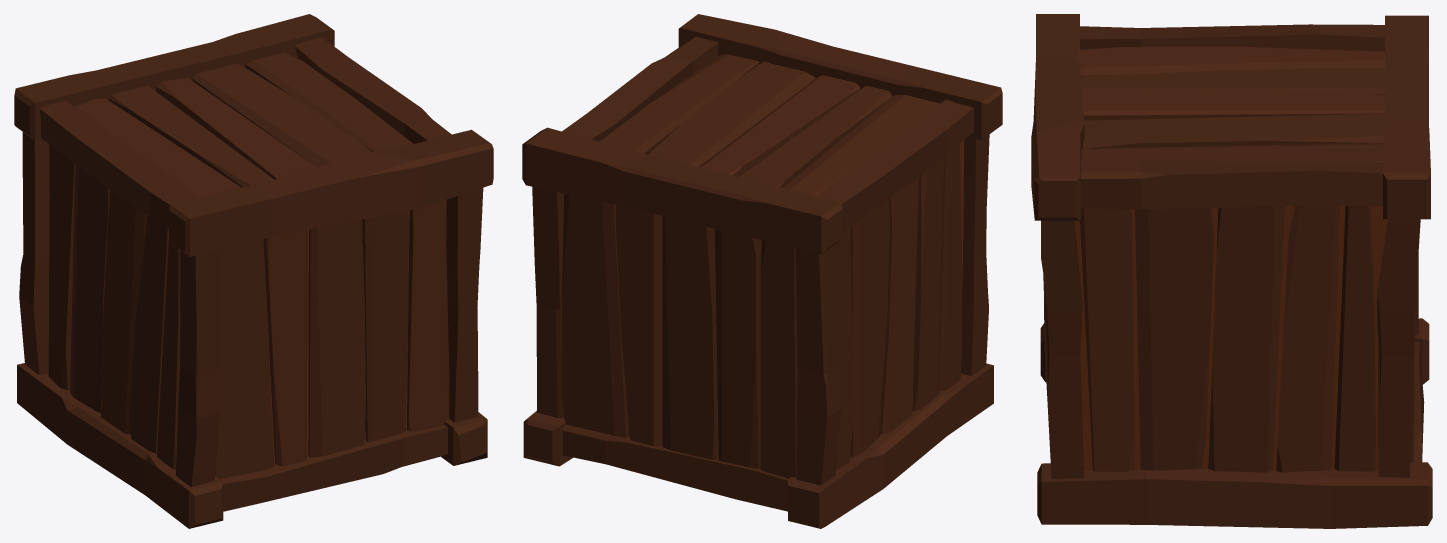
Rendered from Crate.fbx.
3 renders of one model, left to right at view 1: azimuth 30°, elevation 25°; view 2: azimuth 150°, elevation 25°; view 3: azimuth 270°, elevation 25°, orthographic. The views are drawn at different scales.
Parts seen in each view (by area): view 1: Plane, Cube.001, Cube; view 2: Plane, Cube.001, Cube; view 3: Plane, Cube.001, Cube.
Boxes of the visible parts, x1,y1,x2,y2 form: Plane: [48, 52, 449, 479]; Cube.001: [14, 14, 493, 528]; Cube: [49, 144, 446, 463]; Plane: [562, 54, 961, 478]; Cube.001: [522, 14, 1002, 528]; Cube: [628, 140, 964, 444]; Plane: [1080, 46, 1414, 472]; Cube.001: [1031, 14, 1432, 528]; Cube: [1074, 206, 1388, 470].
Size of the model in its own units: 235 by 233 by 239.
Materials: 1 (1 with a texture image).
